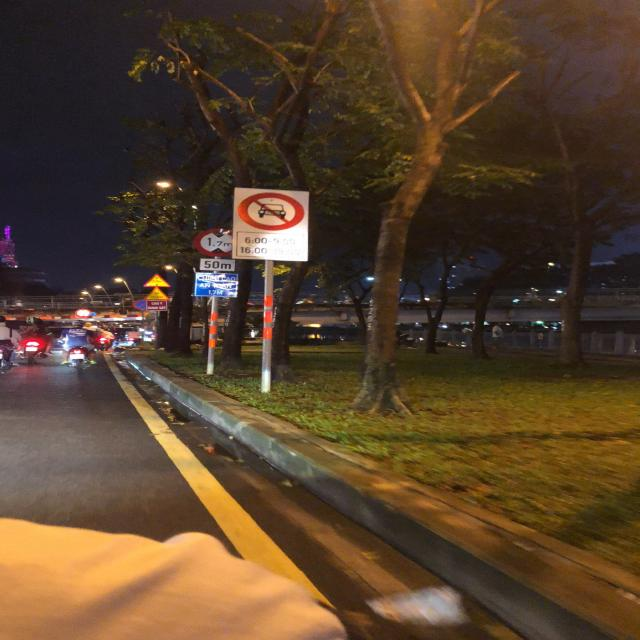Bien bao cam xe oto: (234, 188, 306, 234)
Bien bao chieu cao tinh khong thuc te: (142, 273, 172, 288)
Bien bao di cham: (143, 286, 171, 300)
Bien bao han che chieu cao: (192, 227, 242, 258)
